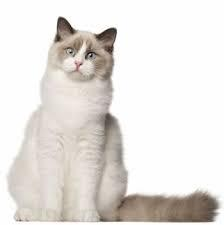ragdoll: (46, 12, 121, 95)
